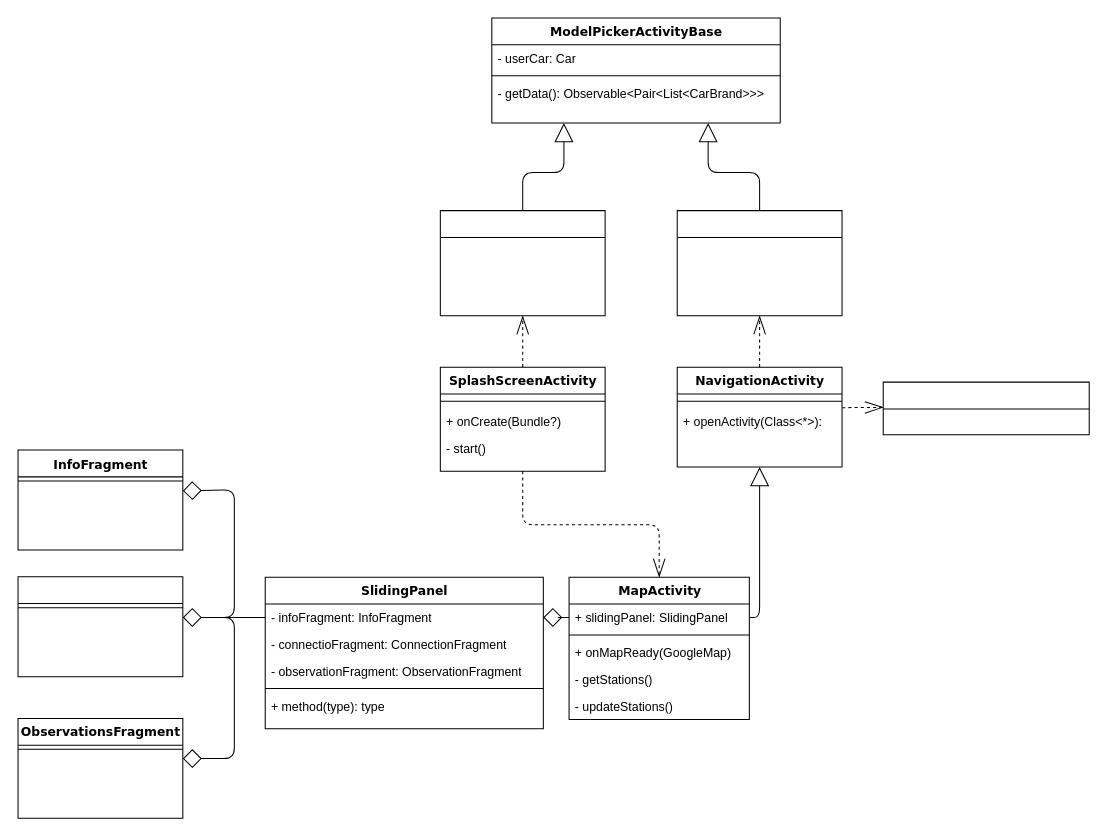
Some shapes in this 1107 by 836 pixel diagram are drawn without their labels. Here are the shapes that lost their labels. From the top down, the centre of each, then its label:
At (x=522, y=263): "CarPickerActivity".
At (x=759, y=263): "CarChangerActivity".
At (x=985, y=408): "TermsAndConditionsActivity".
At (x=100, y=626): "ConnectorFragment".
